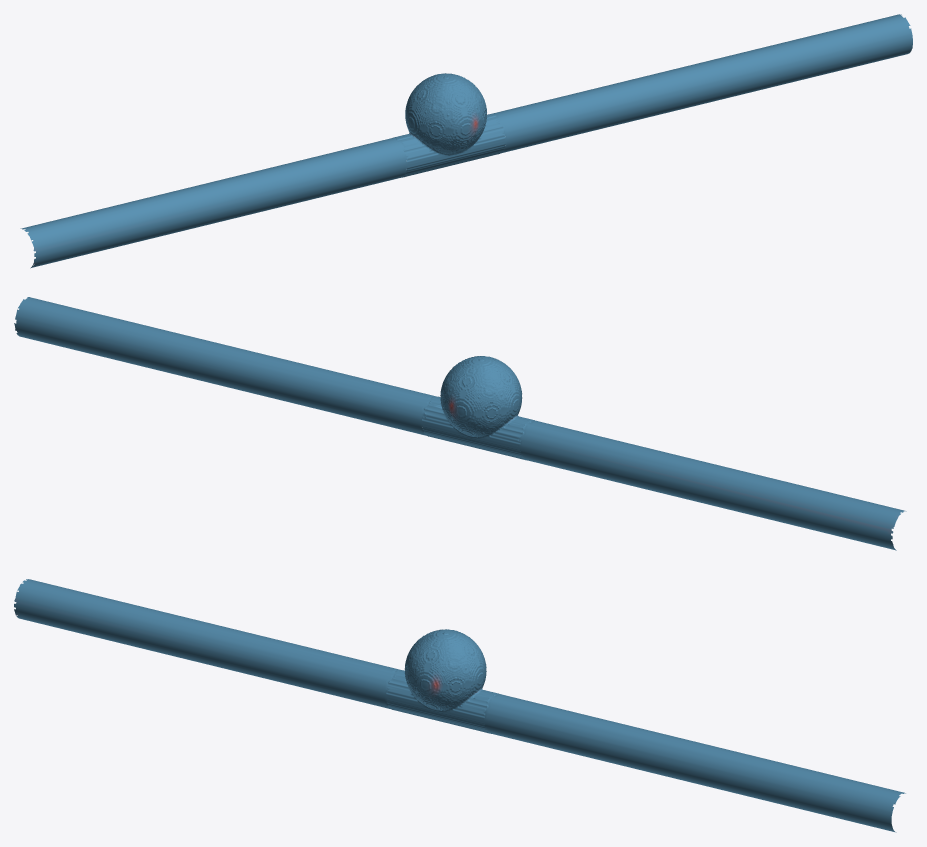
Rendered from PT-2026-0101-osi.glb.
The picture shows the model from 3 angles, top to bottom: view 1: azimuth 30°, elevation 25°; view 2: azimuth 150°, elevation 25°; view 3: azimuth 330°, elevation 25°; orthographic projection.
Visible parts, largest first — view 1: geometry_0; view 2: geometry_0; view 3: geometry_0.
Boxes of the visible parts, x1,y1,x2,y2 form: geometry_0: (20, 14, 912, 268); geometry_0: (14, 297, 906, 550); geometry_0: (14, 579, 905, 832).
Bounding box in the file's own units: 1.92 × 0.1825 × 0.1541.
